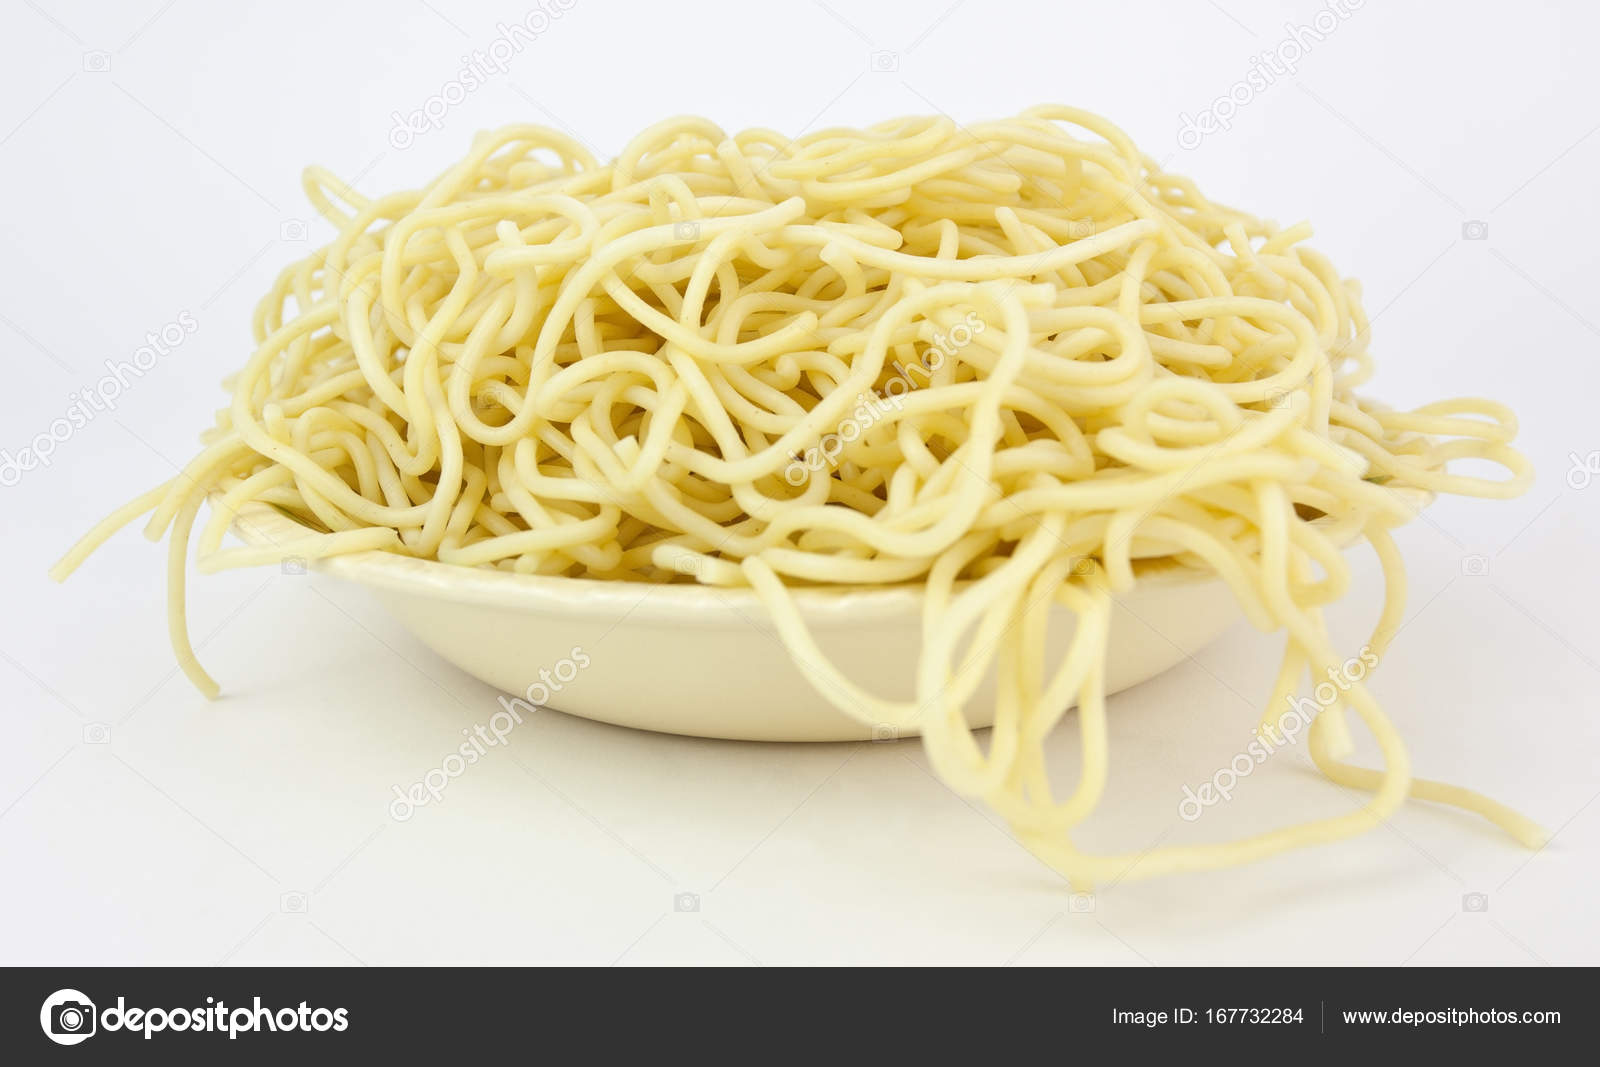plain spaghetti: (400, 189, 1329, 529)
